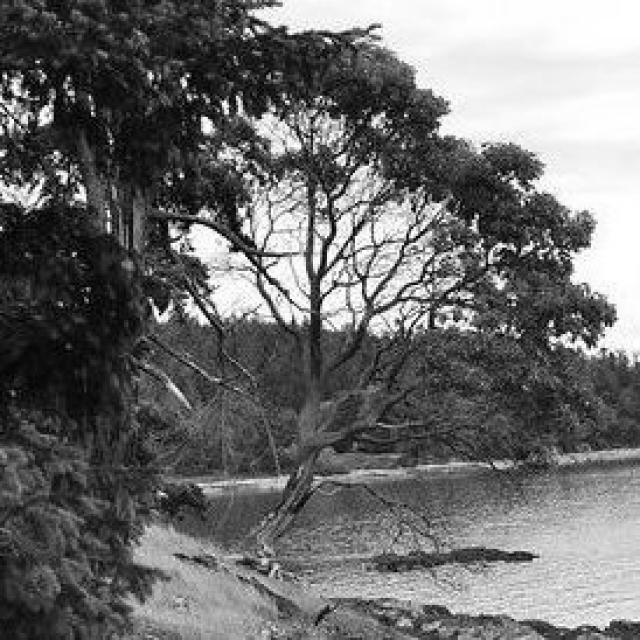Arbutus menziesii: (192, 31, 624, 561)
